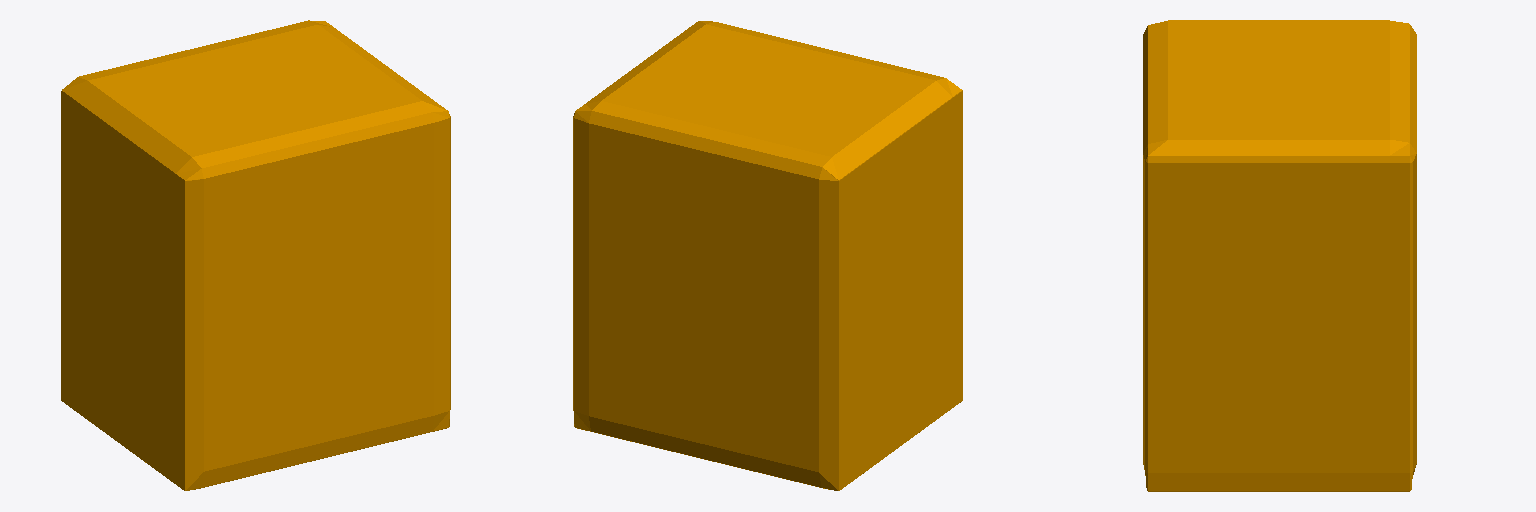
robot.urdf — cylinder_box_55:
<?xml version="1.0" encoding="utf-8"?>  <robot name="cylinder_box_55">   <link name="cylinder_box_55">     <visual>       <geometry>         <mesh filename="../meshes/box/box_55.stl" scale="1 1 1"/>       </geometry>     </visual>     <collision>       <geometry>         <mesh filename="../meshes/box/box_55.stl" scale="1 1 1"/>       </geometry>     </collision>     <inertial>        <origin         xyz="0 0 0"         rpy="0 0 0" />       <mass value="0.5120161988874152"/>       <origin rpy="0 0 0" xyz="0 0 0"/>       <inertia ixx="0.0005694220763161943" ixy="1.984900562092694e-08" ixz="-3.026492557778105e-07" iyy="0.000649886035269694" iyz="-1.608344682075771e-07" izz="0.0004707302728659544"/>     </inertial>   </link>  </robot>

--- What the picture shows (computed from the rendered views, not written in the file) ---
The picture shows the robot from 3 angles, left to right: view 1: azimuth 30°, elevation 25°; view 2: azimuth 150°, elevation 25°; view 3: azimuth 270°, elevation 25°; orthographic projection.
Model cylinder_box_55 with 1 links and 0 joints (none), rooted at cylinder_box_55, posed all joints at 0.
Visible links, largest first — view 1: cylinder_box_55; view 2: cylinder_box_55; view 3: cylinder_box_55.
Boxes of the visible links, left/top/right/bottom form: cylinder_box_55: left=61, top=20, right=450, bottom=490; cylinder_box_55: left=573, top=21, right=962, bottom=490; cylinder_box_55: left=1143, top=20, right=1416, bottom=491.
Bounding box of the posed robot: 0.0807 × 0.0679 × 0.0941 m (x, y, z).
Meshes: 1 distinct files referenced, 1 mesh visuals loaded (1 binary STL).